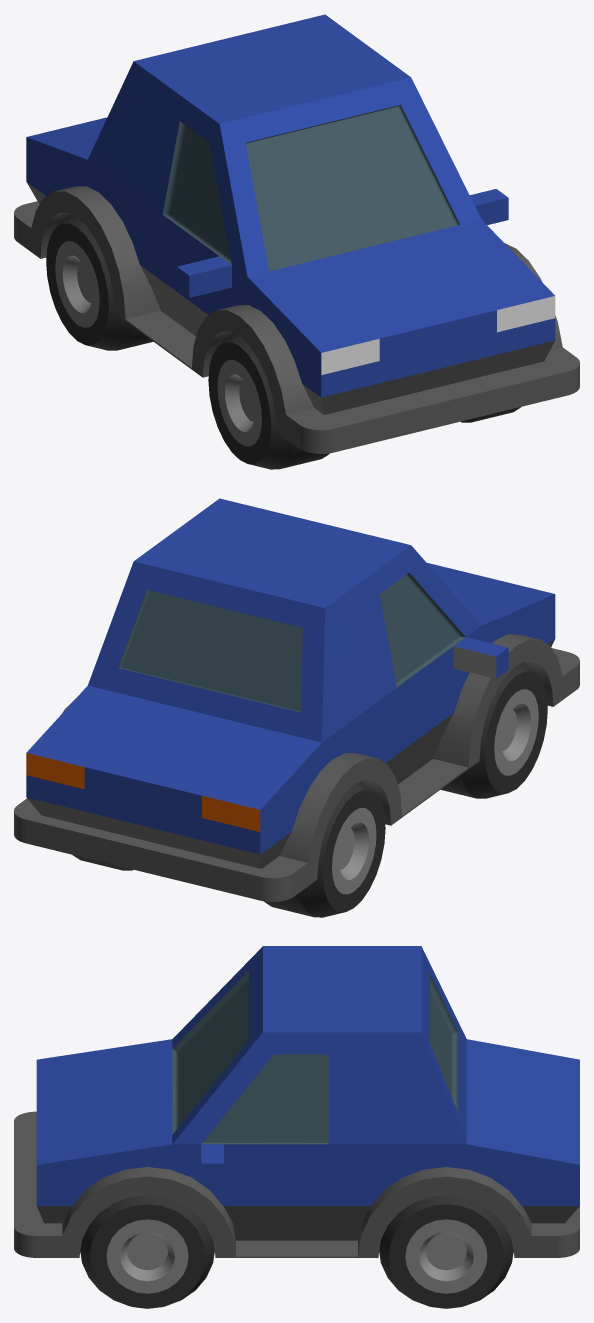
The model's file is 64 Car_4.fbx.
The picture shows the model from 3 angles, top to bottom: view 1: azimuth 30°, elevation 25°; view 2: azimuth 150°, elevation 25°; view 3: azimuth 270°, elevation 25°; orthographic projection. The views are drawn at different scales.
Visible parts, largest first — view 1: Car_4; view 2: Car_4; view 3: Car_4.
Boxes of the visible parts, box(x1,y1,x2,y2) form: Car_4: box(14, 14, 579, 469); Car_4: box(14, 498, 579, 917); Car_4: box(14, 946, 579, 1308).
Bounding box in the file's own units: 33.75 × 29.25 × 56.25.
